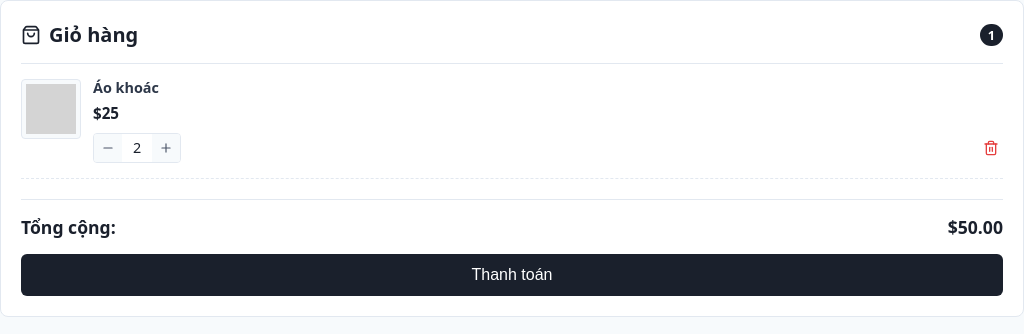
Test case: Cart integration tests › xóa sản phẩm và hiển thị trạng thái giỏ hàng trống
What coordinates should you click on to do the following:
click the button with class "remove-btn"
I would click on:
 (991, 148)
Its box is x1=979 y1=136 x2=1003 y2=160.
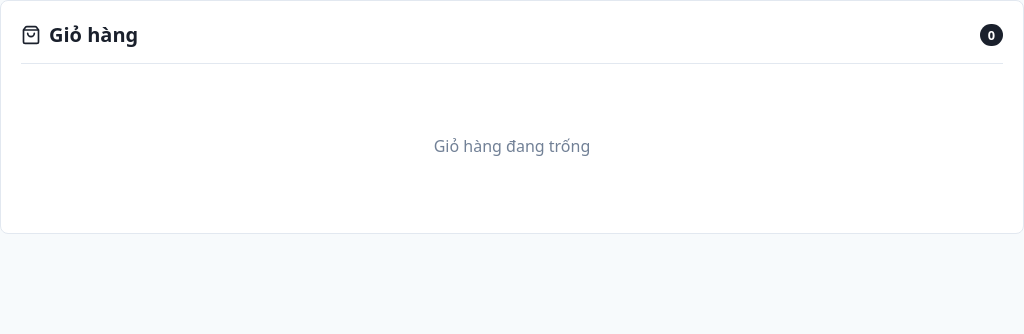
Expected: the text "Giỏ hàng đang trống" is shown, x1=434 y1=135 x2=590 y2=157
Expected: the heading "Áo khoác" is gone
Expected: the button "Thanh toán" is gone
